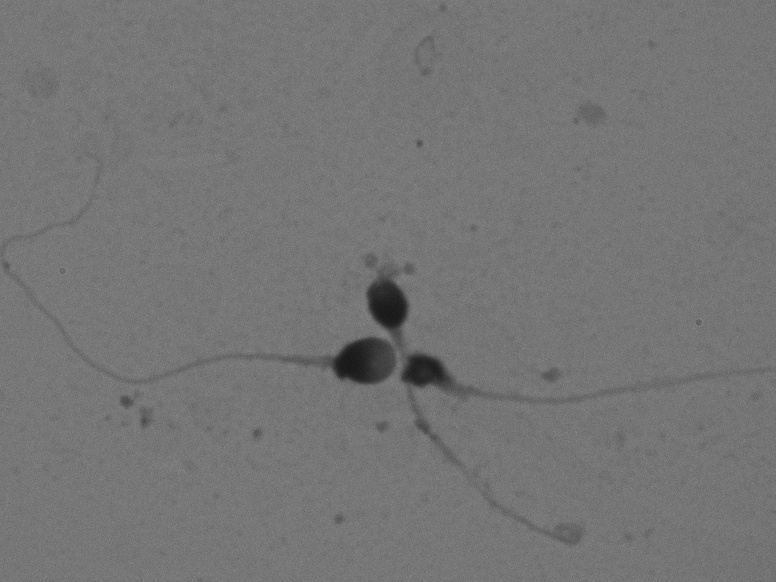Abnormal: (2, 140, 400, 400), (344, 266, 603, 571), (399, 325, 772, 441)
